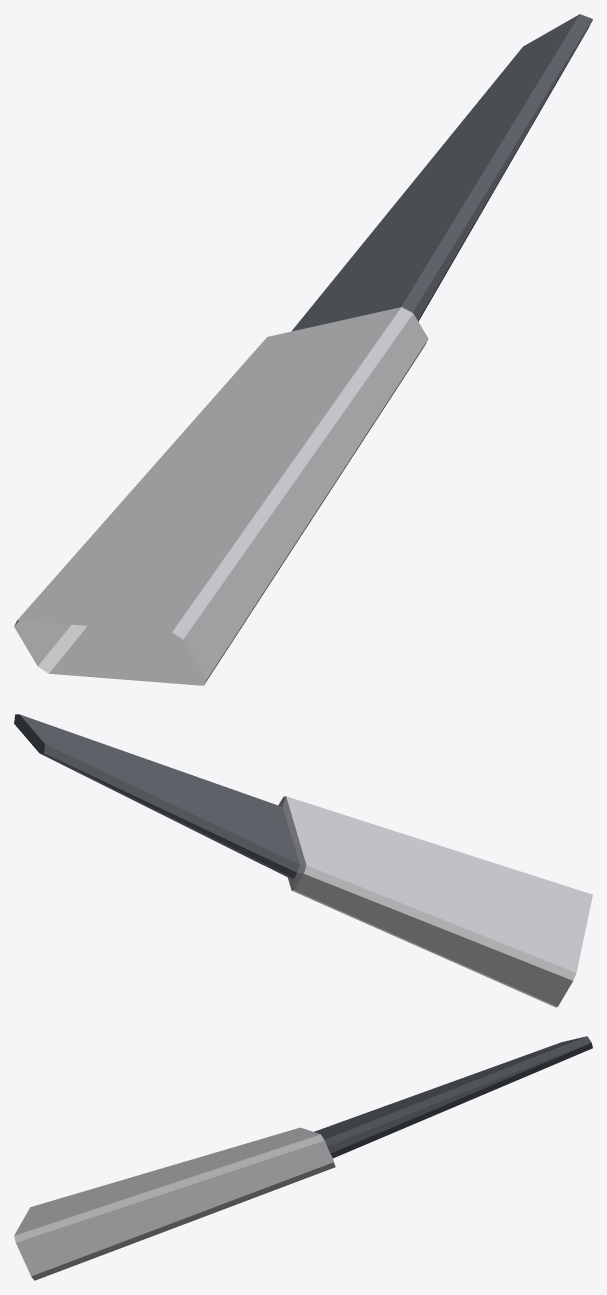
The model's file is Dropship_05_Wing_Left.fbx.
The picture shows the model from 3 angles, top to bottom: view 1: azimuth 30°, elevation 25°; view 2: azimuth 150°, elevation 25°; view 3: azimuth 330°, elevation 25°; orthographic projection. The views are drawn at different scales.
Parts seen in each view (by area): view 1: Dropship_05_Wing_Left; view 2: Dropship_05_Wing_Left; view 3: Dropship_05_Wing_Left.
Boxes of the visible parts, x1,y1,x2,y2 form: Dropship_05_Wing_Left: (14,14,592,685); Dropship_05_Wing_Left: (14,714,592,1007); Dropship_05_Wing_Left: (14,1036,592,1280).
Size of the model in its own units: 452 by 234 by 274.
1 material, 1 textured.
